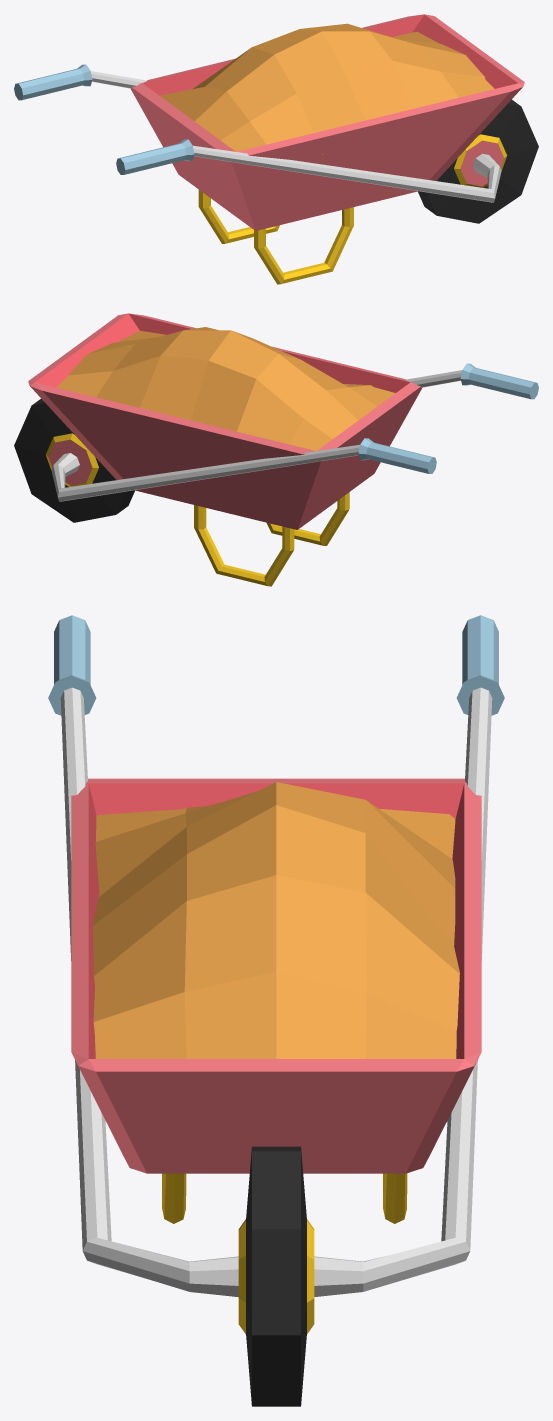
The model's file is Wheelbarrow_01.glb.
The picture shows the model from 3 angles, top to bottom: view 1: azimuth 30°, elevation 25°; view 2: azimuth 150°, elevation 25°; view 3: azimuth 270°, elevation 25°; orthographic projection. The views are drawn at different scales.
Visible parts, largest first — view 1: Wheelbarrow_01; view 2: Wheelbarrow_01; view 3: Wheelbarrow_01.
Boxes of the visible parts, left/top/right/bottom form: Wheelbarrow_01: left=14, top=14, right=538, bottom=284; Wheelbarrow_01: left=14, top=313, right=538, bottom=586; Wheelbarrow_01: left=48, top=615, right=504, bottom=1406.
Size of what is drawn, in the model's own units: 2.45 by 1.14 by 1.05.
1 material, 1 textured.
